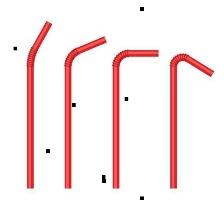drinking_straw: (107, 44, 162, 192), (60, 31, 110, 191), (166, 46, 216, 191), (19, 16, 55, 191)
